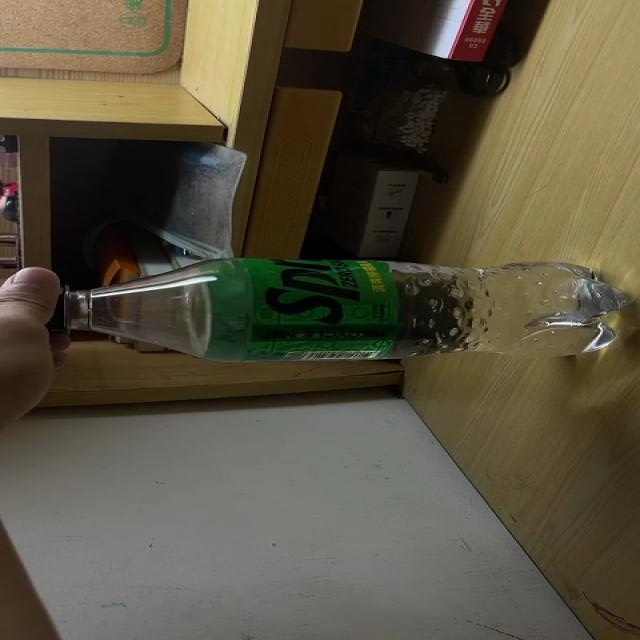Sprite: (17, 259, 630, 364)
